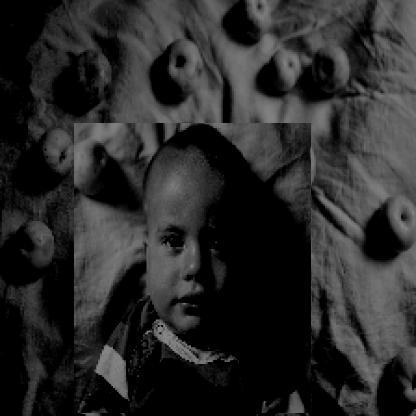child: (75, 124, 313, 415)
